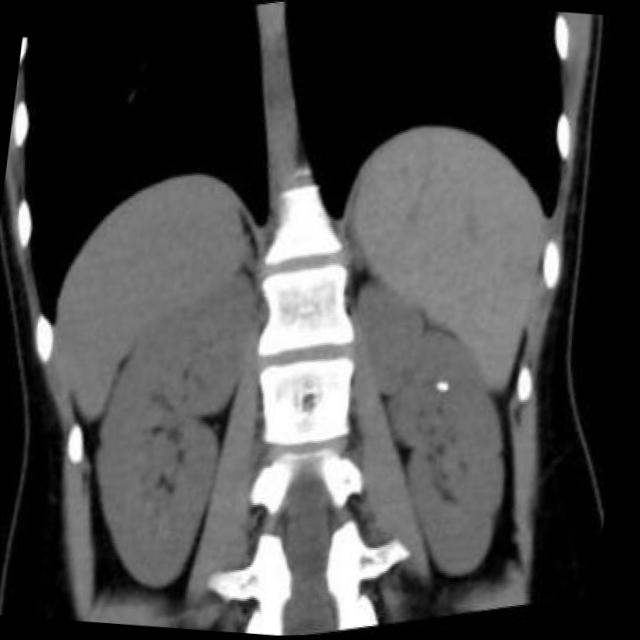Tas_Var: (437, 378, 454, 397)
